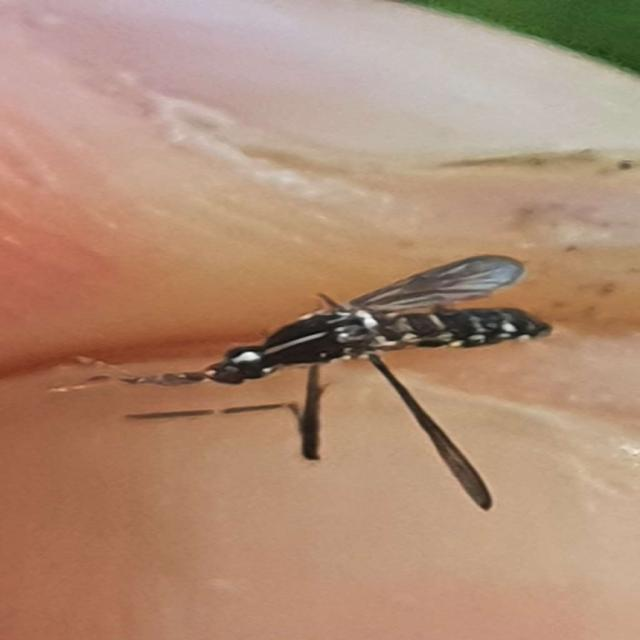albopictus: (84, 225, 551, 516)
